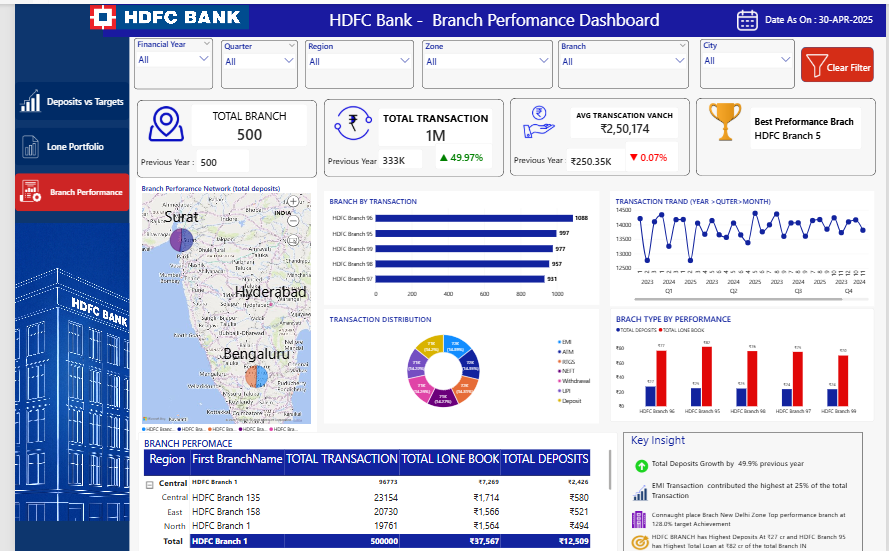

The page's visual inventory and layout, read from the dashboard file:
{"tool":"powerbi","page":{"name":"Branch Performance","canvas":[2500,1580],"ordinal":2},"visuals":[{"type":"shape","title":"Left Pane ","box":[0,0,328.6,1580],"z":0},{"type":"shape","box":[250.1,0,2249.9,94.8],"z":0,"group":"g1"},{"type":"slicer","fields":{"Values":["DimDate.Finanical Year"]},"box":[342.2,97.8,227,146.6],"z":0,"group":"g3"},{"type":"pageNavigator","box":[0,224.4,328.6,372.9],"z":0,"group":"g2"},{"type":"shape","box":[1420.9,269.8,516.8,223.5],"z":0,"group":"g6"},{"type":"shape","box":[1956.8,269.8,516.8,223.5],"z":0,"group":"g7"},{"type":"shape","box":[888.5,273.4,516.8,223.5],"z":0,"group":"g5"},{"type":"shape","box":[349.2,275.8,516.8,223.5],"z":0,"group":"g4"},{"type":"group","id":"g1","title":"Top Pane","box":[211.2,0,2288.8,101.1],"z":1000},{"type":"image","box":[2073.4,9.5,60,75.8],"z":1000,"group":"g1"},{"type":"slicer","fields":{"Values":["DimDate.Quarter"]},"box":[590.9,104.3,221.2,139],"z":1000,"group":"g3"},{"type":"image","box":[12.6,240.2,66.4,72.7],"z":1000,"group":"g2"},{"type":"image","box":[1444.8,284.3,122.2,108.2],"z":1000,"group":"g6"},{"type":"image","box":[1980.7,284.3,122.2,108.2],"z":1000,"group":"g7"},{"type":"image","box":[912.4,287.9,122.2,108.2],"z":1000,"group":"g5"},{"type":"image","box":[373.1,290.3,122.2,108.2],"z":1000,"group":"g4"},{"type":"textbox","box":[2146.1,25.3,322.3,50.6],"z":2000,"group":"g1"},{"type":"slicer","fields":{"Values":["DimBranch.Region"]},"box":[834.3,104.3,312.8,139],"z":2000,"group":"g3"},{"type":"group","id":"g2","title":"Left Side ","box":[0,224.4,328.6,1260.8],"z":2000},{"type":"image","box":[12.6,372.9,66.4,72.7],"z":2000,"group":"g2"},{"type":"textbox","box":[1432,430,186.4,50.6],"z":2000,"group":"g6"},{"type":"textbox","box":[899.6,433.6,186.4,50.6],"z":2000,"group":"g5"},{"type":"textbox","box":[360.3,436,186.4,50.6],"z":2000,"group":"g4"},{"type":"textbox","box":[888.4,12.6,973.3,88.5],"z":3000,"group":"g1"},{"type":"group","id":"g3","title":"TOP Slicer","box":[342.2,97.8,2126.4,146.6],"z":3000},{"type":"shape","box":[2259.1,122.2,209.5,101.3],"z":3000,"group":"g3"},{"type":"cardVisual","fields":{"Data":["Page3_ALL_Measure.TOTAL BRANCH"]},"box":[503.6,287.7,334.5,122.3],"z":3000,"group":"g4"},{"type":"cardVisual","fields":{"Data":["Page3_ALL_Measure.AVG TRANSCATION VANCH"]},"box":[1592.7,297.1,312.8,91.6],"z":3000,"group":"g6"},{"type":"cardVisual","fields":{"Data":["Page3_ALL_Measure.TOTAL TRANSACTION"]},"box":[1043.2,298.6,330.9,111.5],"z":3000,"group":"g5"},{"type":"image","box":[12.6,499.3,66.4,72.7],"z":3000,"group":"g2"},{"type":"image","box":[211.2,3.5,460.9,69.8],"z":4000,"group":"g1"},{"type":"slicer","fields":{"Values":["DimBranch.Zone"]},"box":[1169.2,104.3,376,139],"z":4000,"group":"g3"},{"type":"group","id":"g4","title":"TOTAL BRANCH ","box":[349.2,275.8,516.8,223.5],"z":4000},{"type":"cardVisual","fields":{"Data":["Page3_ALL_Measure.Previous Year Avg Tran"]},"box":[1582.8,413.7,190.6,68.3],"z":4000,"group":"g6"},{"type":"cardVisual","fields":{"Data":["Page3_ALL_Measure.Previous Branch"]},"box":[518,417.2,154.7,68.3],"z":4000,"group":"g4"},{"type":"cardVisual","fields":{"Data":["Page3_ALL_Measure.PREVIOUS TRANSCTION"]},"box":[1043.2,417.3,129.5,57.6],"z":4000,"group":"g5"},{"type":"image","box":[0,628.9,328.6,856.4],"z":4000,"group":"g2"},{"type":"slicer","fields":{"Values":["DimBranch.BranchName"]},"box":[1561.1,104.3,376,139],"z":5000,"group":"g3"},{"type":"group","id":"g5","title":"TOTAL TRANSCATION ","box":[888.5,273.4,516.8,223.5],"z":5000},{"type":"cardVisual","fields":{"Data":["Page3_ALL_Measure.Avg Tran arrow"]},"box":[1751.8,392.1,154.7,89.9],"z":5000,"group":"g6"},{"type":"cardVisual","fields":{"Data":["Page3_ALL_Measure.Transcation Arrow"]},"box":[1208.6,399.3,165.5,75.5],"z":5000,"group":"g5"},{"type":"slicer","fields":{"Values":["DimBranch.City"]},"box":[1968.7,101.2,271.8,142.2],"z":6000,"group":"g3"},{"type":"group","id":"g6","title":"AVG TRANCATION VANCH","box":[1420.9,269.8,516.8,223.5],"z":6000},{"type":"image","box":[2273.1,132.7,66.3,90.8],"z":7000,"group":"g3"},{"type":"group","id":"g7","title":"BEST PERFORMANCE BRANCH","box":[1956.8,269.8,516.8,223.5],"z":7000},{"type":"textbox","box":[2325.4,164.1,143.2,73.3],"z":8000,"group":"g3"},{"type":"map","title":"Branch Perforamce Network (total deposits)","fields":{"Category":["DimBranch.City"],"Series":["DimBranch.BranchName"],"Size":["Page1_AllMeasure.TOTAL DEPOSITS"]},"box":[347.6,499.3,518.2,752.1],"z":8000},{"type":"clusteredBarChart","title":"BRANCH BY  TRANSACTION","fields":{"Category":["DimBranch.BranchName"],"Y":["Page3_ALL_Measure.TOTAL TRANSACTION"]},"box":[888.5,536,791.4,327.3],"z":9000},{"type":"donutChart","title":" TRANSACTION DISTRIBUTION ","fields":{"Category":["FactTransactions.TransactionType"],"Y":["Page3_ALL_Measure.TOTAL TRANSACTION"]},"box":[888,875.3,790,328.6],"z":10000},{"type":"lineChart","title":" TRANSACTION TRAND (YEAR >QUTER>MONTH)","fields":{"Category":["DimDate.Quarter","DimDate.Year","DimDate.Month"],"Y":["Page3_ALL_Measure.TOTAL TRANSACTION"]},"box":[1708.6,536,759,330.9],"z":11000},{"type":"clusteredColumnChart","title":"BRACH TYPE BY PERFORMANCE ","fields":{"Category":["DimBranch.BranchName"],"Y":["Page2_All_Measure.TOTAL LONE BOOK","Page1_AllMeasure.TOTAL DEPOSITS"]},"box":[1708.6,874.1,759,327.3],"z":12000},{"type":"pivotTable","title":"BRANCH PERFOMACE ","fields":{"Rows":["DimBranch.Region","DimBranch.Zone"],"Values":["Min(DimBranch.BranchName)","Page3_ALL_Measure.TOTAL TRANSACTION","Page2_All_Measure.TOTAL LONE BOOK","Page1_AllMeasure.TOTAL DEPOSITS"]},"box":[354,1230,1378,350],"z":13000},{"type":"shape","box":[1747.5,1229.2,688.9,350.8],"z":14000},{"type":"textbox","box":[1768.6,1230,187.1,52.9],"z":15000},{"type":"image","box":[1768.6,1304.3,61.4,45.7],"z":16000},{"type":"textbox","box":[1830,1304.3,605.7,55.7],"z":17000},{"type":"image","box":[1772.9,1381.4,48.6,45.7],"z":18000},{"type":"textbox","box":[1830,1367.1,580,75.7],"z":19000},{"type":"image","box":[1772.9,1457.1,38.6,48.6],"z":20000},{"type":"textbox","box":[1828.6,1454.3,568.6,51.4],"z":21000},{"type":"image","box":[1768.6,1525.7,52.9,44.3],"z":22000},{"type":"textbox","box":[1830,1515.7,567.1,54.3],"z":23000},{"type":"cardVisual","fields":{"Data":["Page3_ALL_Measure.Best Preformance Brach"]},"box":[2112.4,296.8,321.2,122.2],"z":24000}]}

Visuals, with their boxes on the page's 2500x1580 design canvas (x1, y1, x2, y2). These are canvas units, not pixel positions in the 889x551 screenshot, which may show the page scaled, cropped or inside an application window:
"Left Pane " shape: locate(0, 0, 329, 1580)
shape: locate(250, 0, 2500, 95)
slicer - DimDate.Finanical Year: locate(342, 98, 569, 244)
pageNavigator: locate(0, 224, 329, 597)
shape: locate(1421, 270, 1938, 493)
shape: locate(1957, 270, 2474, 493)
shape: locate(888, 273, 1405, 497)
shape: locate(349, 276, 866, 499)
"Top Pane" group: locate(211, 0, 2500, 101)
image: locate(2073, 10, 2133, 85)
slicer - DimDate.Quarter: locate(591, 104, 812, 243)
image: locate(13, 240, 79, 313)
image: locate(1445, 284, 1567, 392)
image: locate(1981, 284, 2103, 392)
image: locate(912, 288, 1035, 396)
image: locate(373, 290, 495, 398)
textbox: locate(2146, 25, 2468, 76)
slicer - DimBranch.Region: locate(834, 104, 1147, 243)
"Left Side " group: locate(0, 224, 329, 1485)
image: locate(13, 373, 79, 446)
textbox: locate(1432, 430, 1618, 481)
textbox: locate(900, 434, 1086, 484)
textbox: locate(360, 436, 547, 487)
textbox: locate(888, 13, 1862, 101)
"TOP Slicer" group: locate(342, 98, 2469, 244)
shape: locate(2259, 122, 2469, 224)
cardVisual - Page3_ALL_Measure.TOTAL BRANCH: locate(504, 288, 838, 410)
cardVisual - Page3_ALL_Measure.AVG TRANSCATION VANCH: locate(1593, 297, 1906, 389)
cardVisual - Page3_ALL_Measure.TOTAL TRANSACTION: locate(1043, 299, 1374, 410)
image: locate(13, 499, 79, 572)
image: locate(211, 4, 672, 73)
slicer - DimBranch.Zone: locate(1169, 104, 1545, 243)
"TOTAL BRANCH " group: locate(349, 276, 866, 499)
cardVisual - Page3_ALL_Measure.Previous Year Avg Tran: locate(1583, 414, 1773, 482)
cardVisual - Page3_ALL_Measure.Previous Branch: locate(518, 417, 673, 486)
cardVisual - Page3_ALL_Measure.PREVIOUS TRANSCTION: locate(1043, 417, 1173, 475)
image: locate(0, 629, 329, 1485)
slicer - DimBranch.BranchName: locate(1561, 104, 1937, 243)
"TOTAL TRANSCATION " group: locate(888, 273, 1405, 497)
cardVisual - Page3_ALL_Measure.Avg Tran arrow: locate(1752, 392, 1906, 482)
cardVisual - Page3_ALL_Measure.Transcation Arrow: locate(1209, 399, 1374, 475)
slicer - DimBranch.City: locate(1969, 101, 2240, 243)
"AVG TRANCATION VANCH" group: locate(1421, 270, 1938, 493)
image: locate(2273, 133, 2339, 224)
"BEST PERFORMANCE BRANCH" group: locate(1957, 270, 2474, 493)
textbox: locate(2325, 164, 2469, 237)
"Branch Perforamce Network (total deposits)" map: locate(348, 499, 866, 1251)
"BRANCH BY  TRANSACTION" clusteredBarChart: locate(888, 536, 1680, 863)
" TRANSACTION DISTRIBUTION " donutChart: locate(888, 875, 1678, 1204)
" TRANSACTION TRAND (YEAR >QUTER>MONTH)" lineChart: locate(1709, 536, 2468, 867)
"BRACH TYPE BY PERFORMANCE " clusteredColumnChart: locate(1709, 874, 2468, 1201)
"BRANCH PERFOMACE " pivotTable: locate(354, 1230, 1732, 1580)
shape: locate(1748, 1229, 2436, 1580)
textbox: locate(1769, 1230, 1956, 1283)
image: locate(1769, 1304, 1830, 1350)
textbox: locate(1830, 1304, 2436, 1360)
image: locate(1773, 1381, 1822, 1427)
textbox: locate(1830, 1367, 2410, 1443)
image: locate(1773, 1457, 1812, 1506)
textbox: locate(1829, 1454, 2397, 1506)
image: locate(1769, 1526, 1822, 1570)
textbox: locate(1830, 1516, 2397, 1570)
cardVisual - Page3_ALL_Measure.Best Preformance Brach: locate(2112, 297, 2434, 419)
